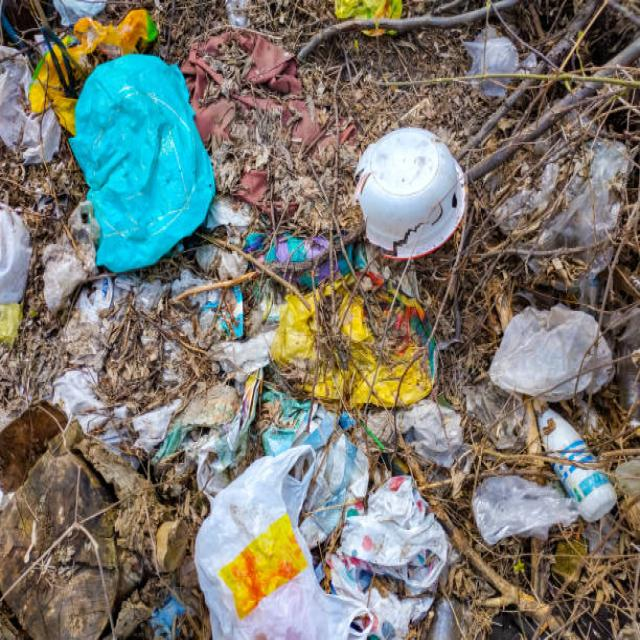plastic: (69, 110, 507, 605)
